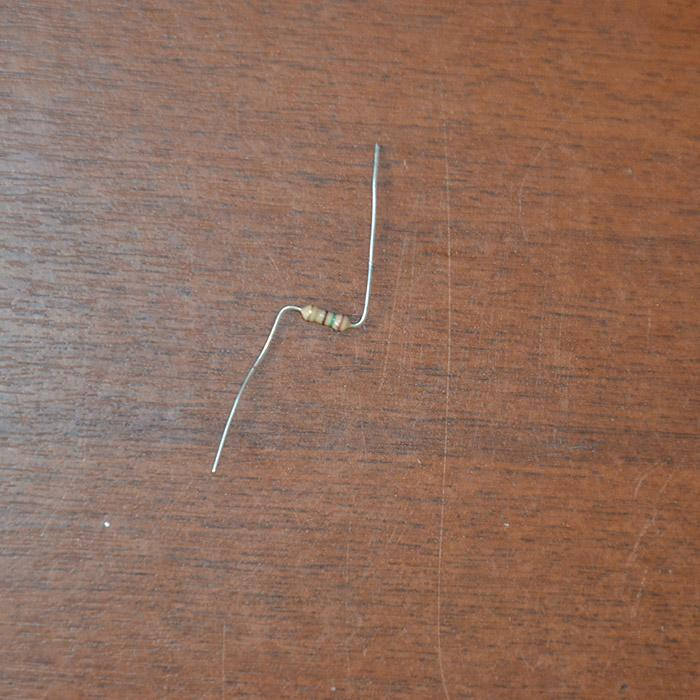resistor: (298, 303, 352, 333)
